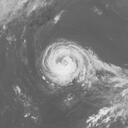cyclone: (41, 40, 91, 88)
